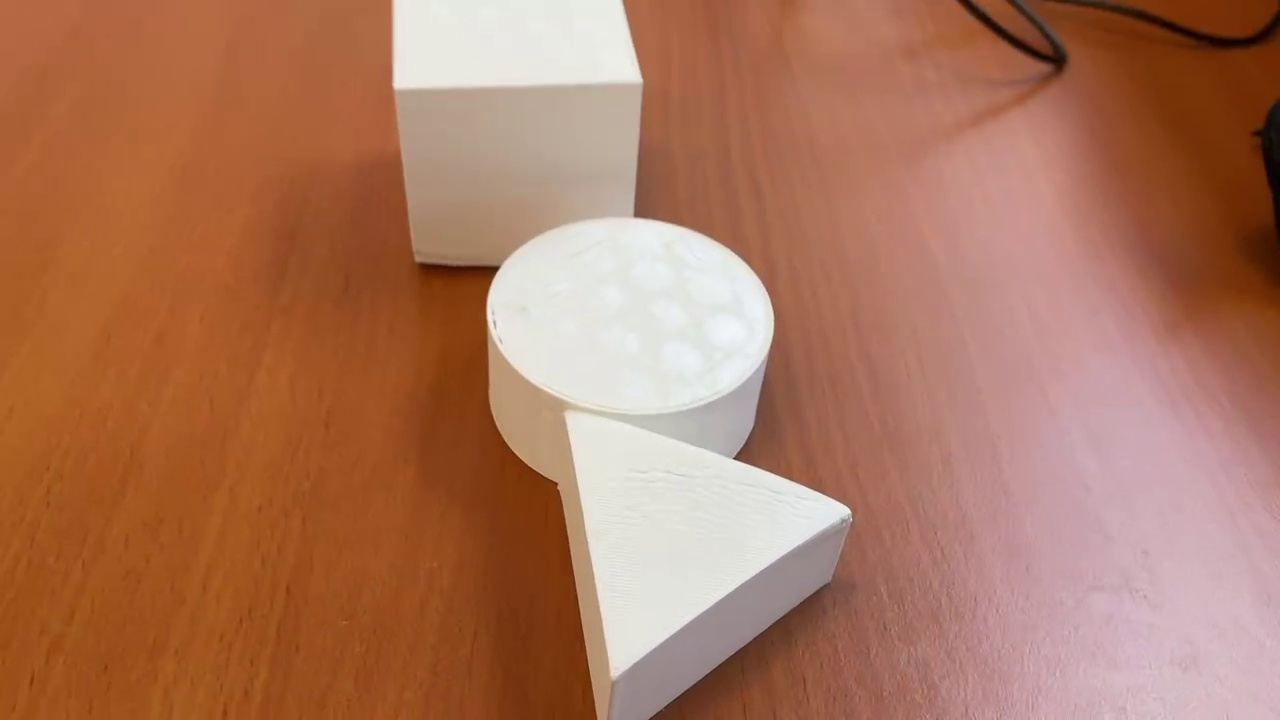Cube: (387, 1, 646, 271)
Cylinder_short: (488, 216, 775, 482)
Triangle_short: (560, 407, 852, 720)
